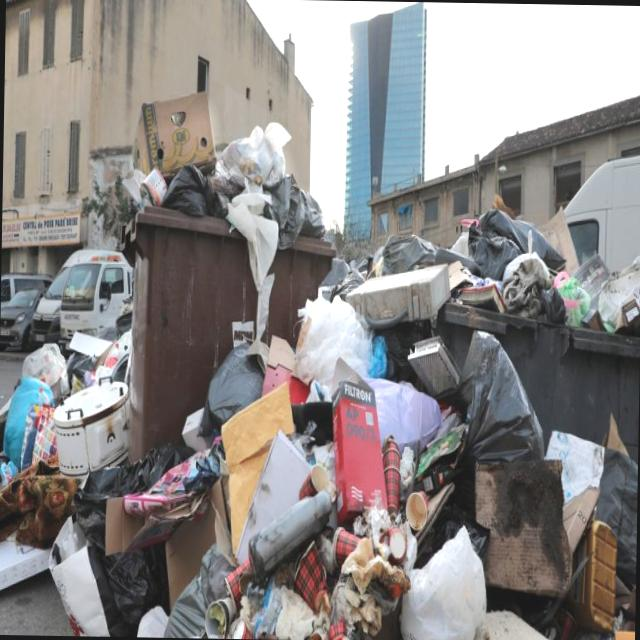garbage: (58, 110, 640, 640)
